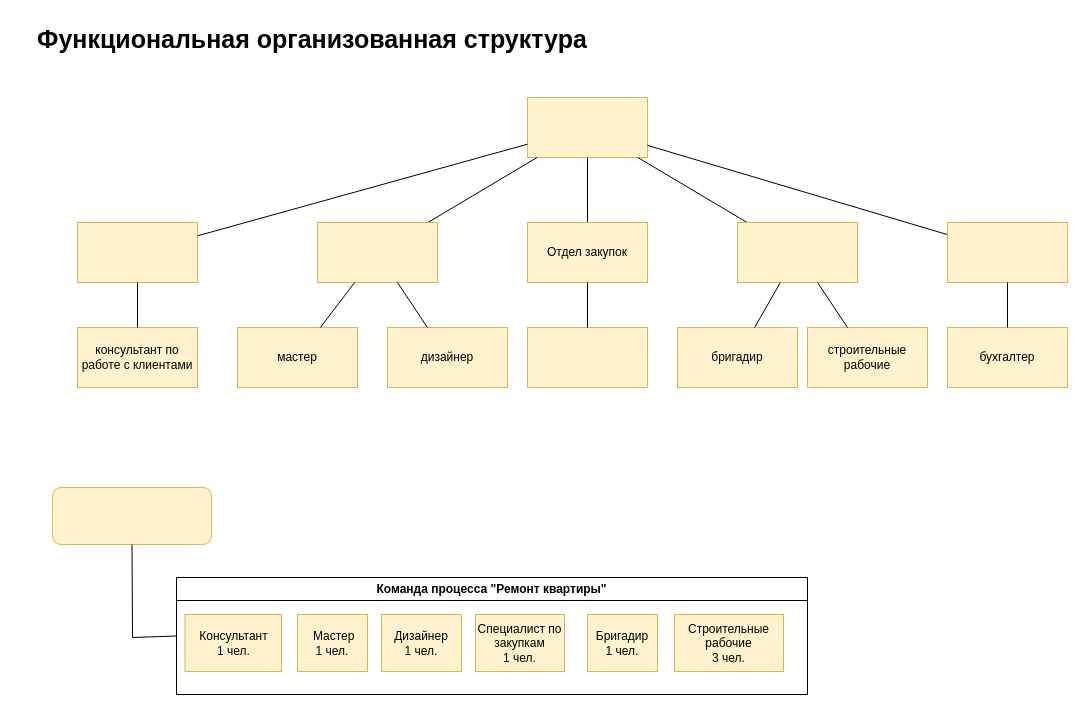
Image size: 1085x712. Some labels were removed from this diagram. Each missing label, with the centre of its shape:
"Бухгалтерия" belongs at point 1007,252.
"Владелец процесса Ремонт квартиры" belongs at point 132,515.
"Директор" belongs at point 587,127.
"Отдел приема заявок" belongs at point 137,252.
"Проектно-дизайнерский отдел" belongs at point 377,252.
"специалист по закупкам" belongs at point 587,357.
"Строительный отдел" belongs at point 797,252.
